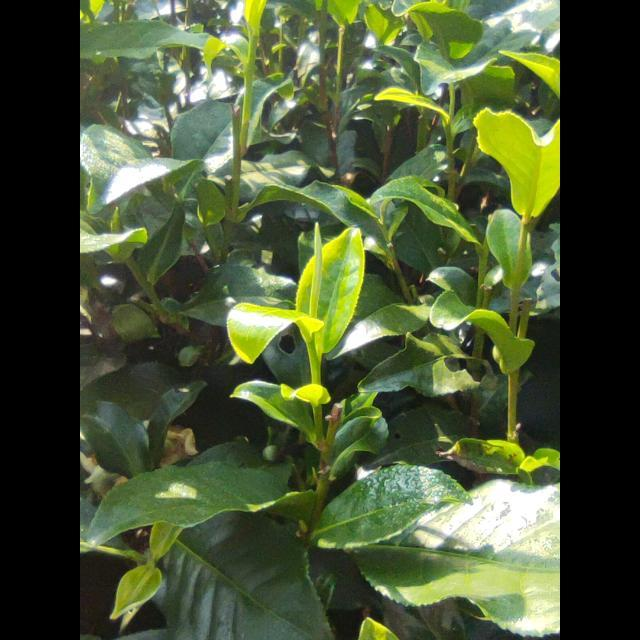Stem: (307, 339, 314, 349)
